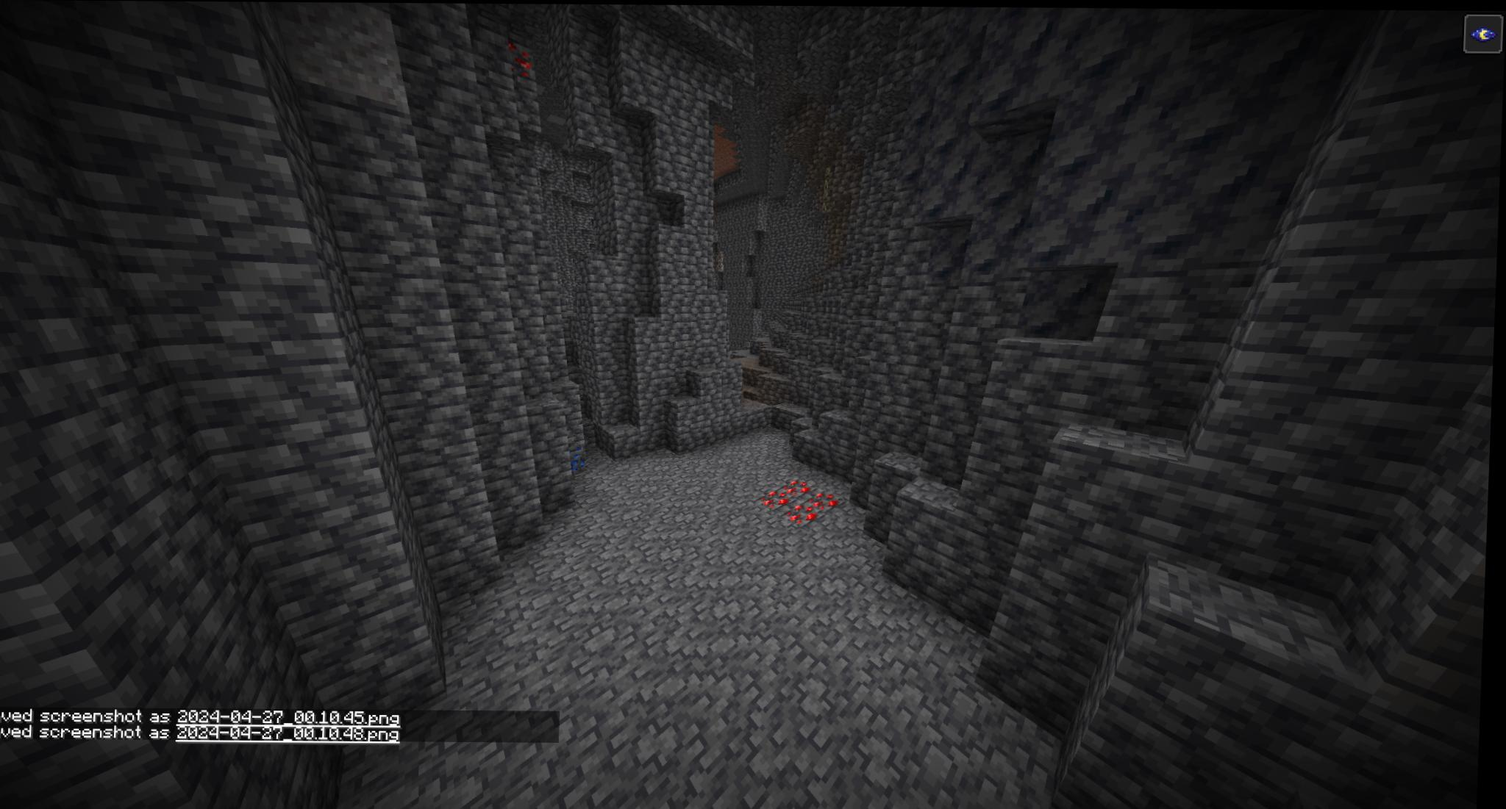redstone ore: (764, 476, 844, 522), (501, 40, 541, 80)
